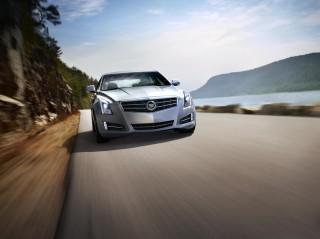cadillac: (143, 98, 158, 112)
